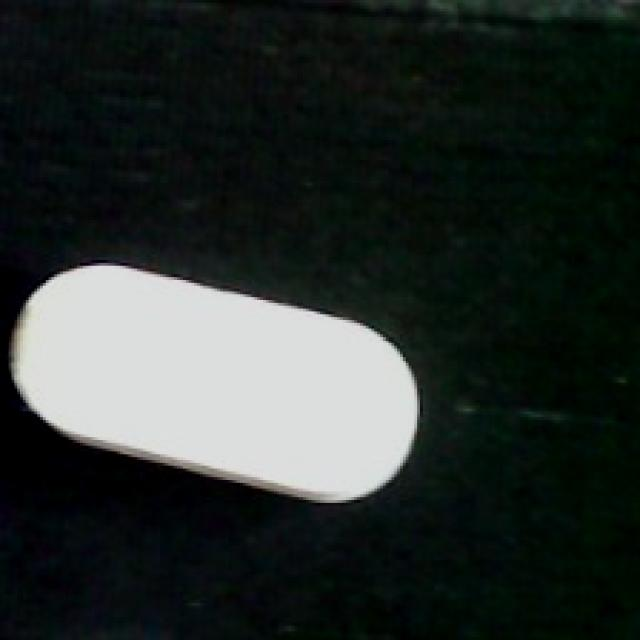no-defect: (9, 260, 420, 510)
